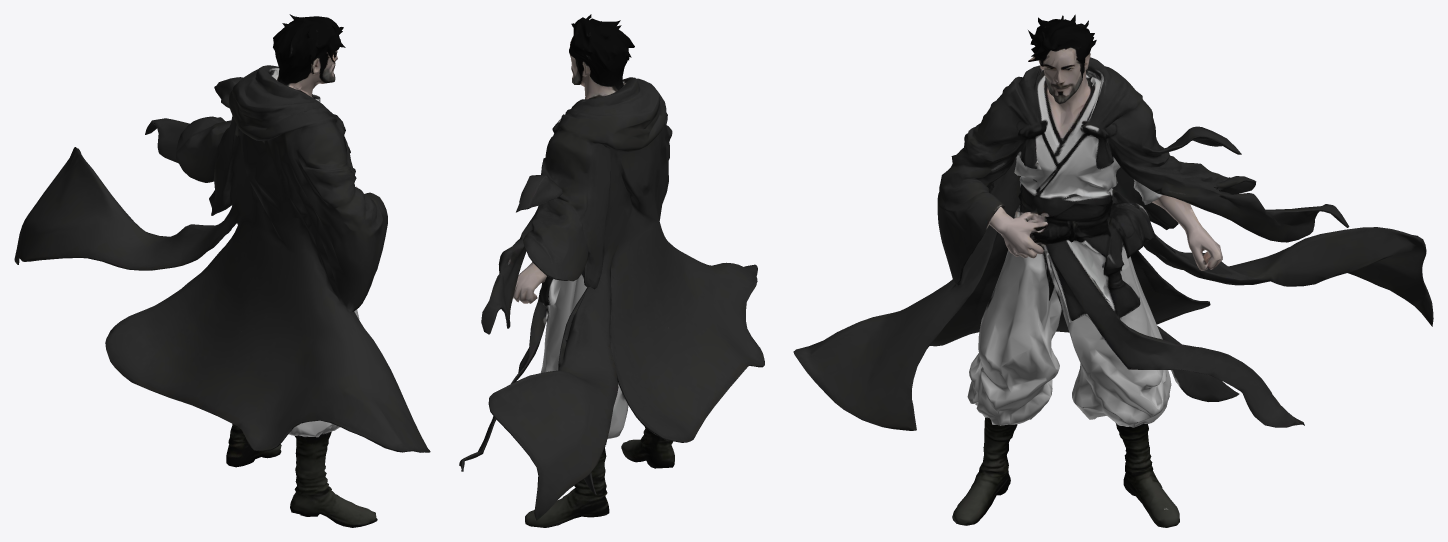
File: uncle.fbx
3 views of the same model, side by side, from view 1: azimuth 30°, elevation 25°; view 2: azimuth 150°, elevation 25°; view 3: azimuth 270°, elevation 25° (orthographic). The views are drawn at different scales.
Visible parts, largest first — view 1: tripo_node_c56d2301; view 2: tripo_node_c56d2301; view 3: tripo_node_c56d2301.
Part boxes in pixels (x1,y1,x2,y2): tripo_node_c56d2301: [14, 14, 430, 527]; tripo_node_c56d2301: [459, 14, 764, 527]; tripo_node_c56d2301: [793, 14, 1433, 527].
Size of the model in its own units: 0.3575 by 0.8634 by 0.9996.
1 material, 1 textured.
